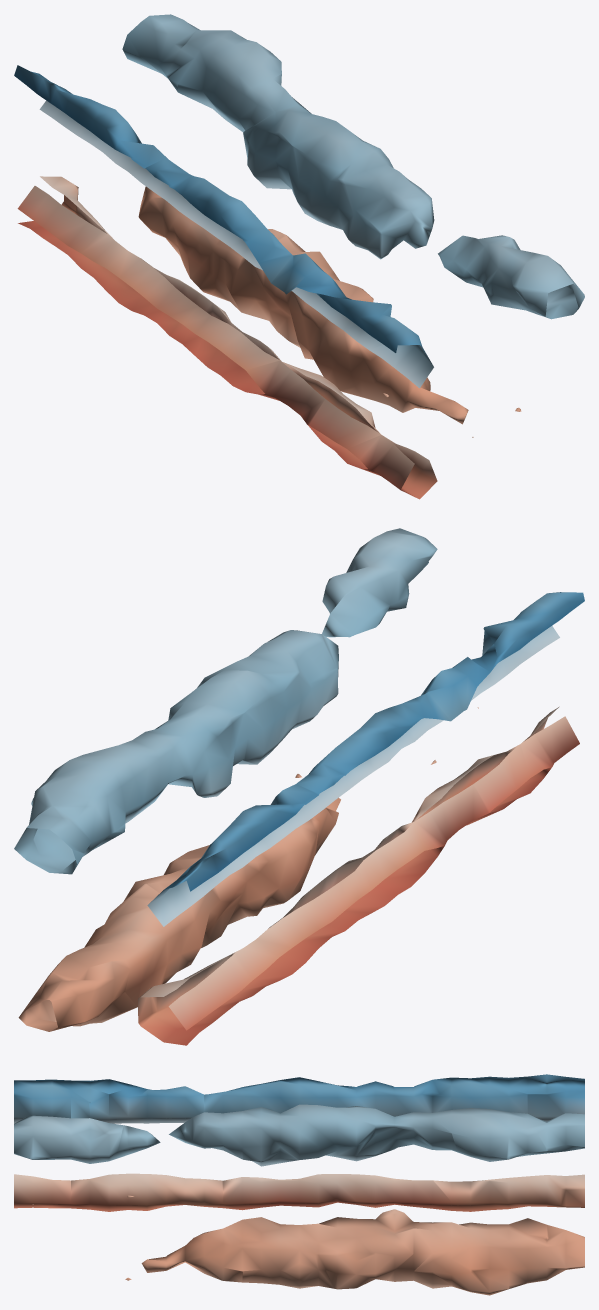
3 renders of one model, top to bottom at view 1: azimuth 30°, elevation 25°; view 2: azimuth 150°, elevation 25°; view 3: azimuth 270°, elevation 25°, orthographic. The views are drawn at different scales.
Size of the model in its own units: 0.7775 by 0.8635 by 2.5.
